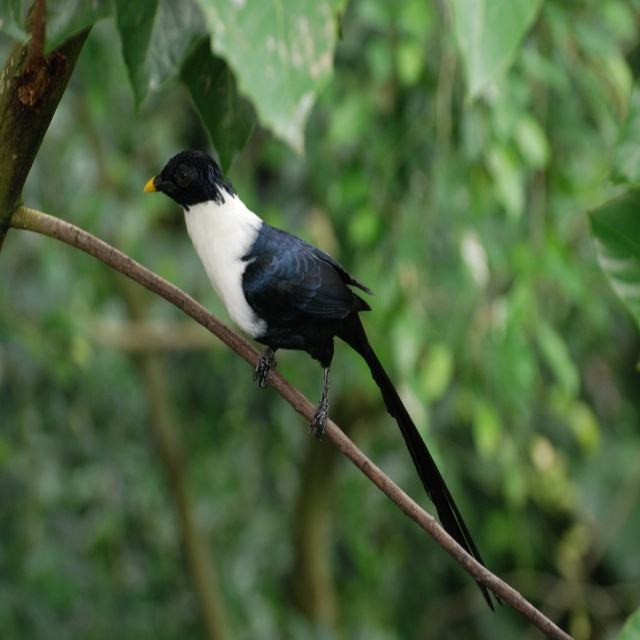Magpie: (143, 149, 504, 614)
